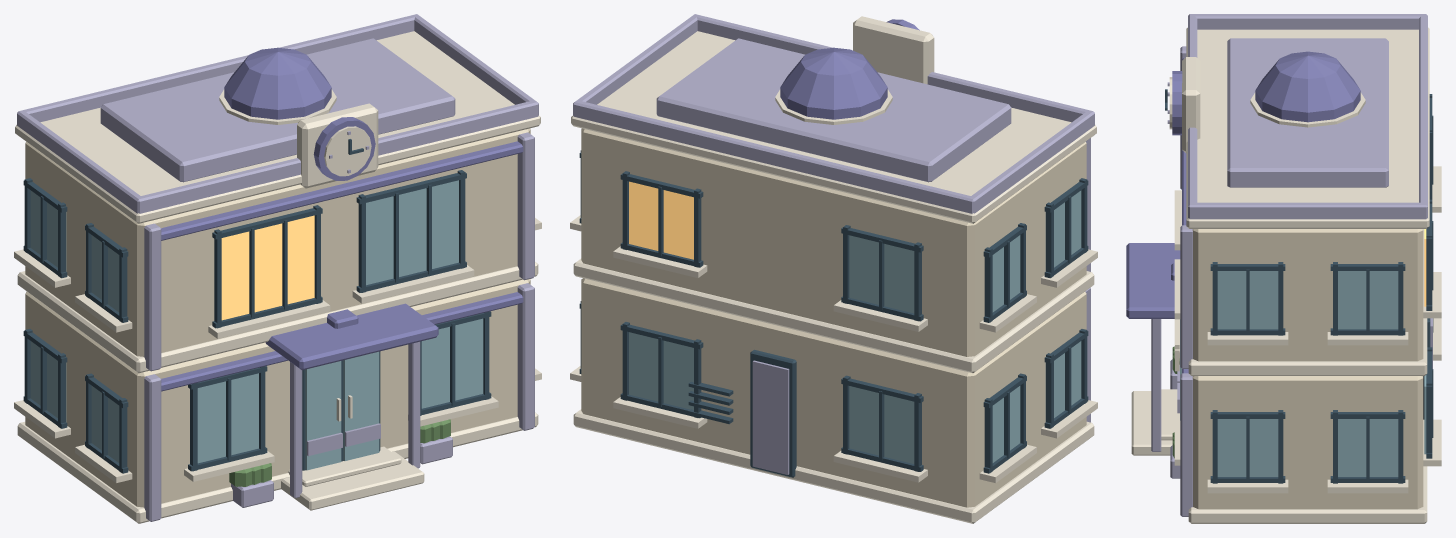
File: learning-l02.glb
3 views of the same model, side by side, from view 1: azimuth 30°, elevation 25°; view 2: azimuth 150°, elevation 25°; view 3: azimuth 270°, elevation 25° (orthographic).
Parts seen in each view (by area): view 1: learning_L02; view 2: learning_L02; view 3: learning_L02.
Boxes of the visible parts, box(x1,y1,x2,y2) form: learning_L02: box(14, 14, 541, 523); learning_L02: box(570, 14, 1097, 523); learning_L02: box(1126, 14, 1441, 523).
Bounding box in the file's own units: 6.27 × 5.35 × 4.09.
